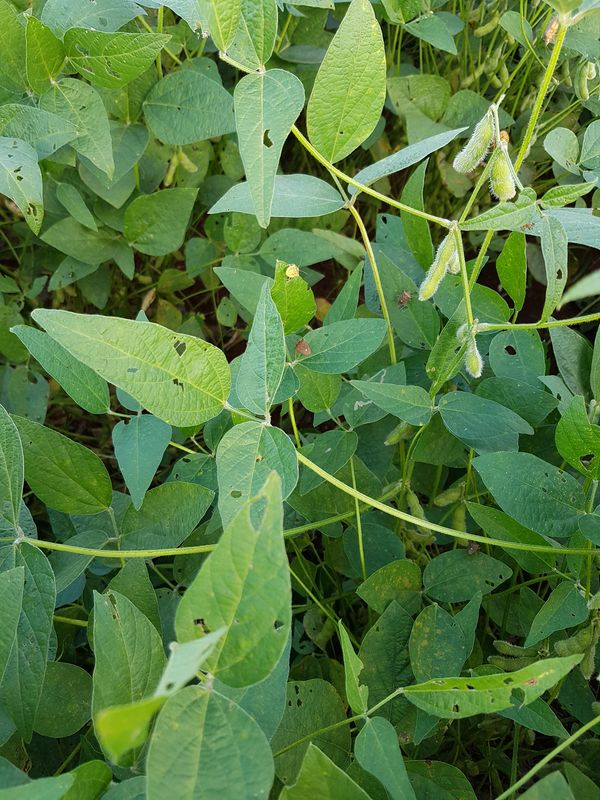Euschistus_heros_adulto: (288, 334, 316, 362), (393, 286, 417, 311), (464, 539, 485, 559)
Euschistus_heros_ninfa: (280, 258, 307, 284)
